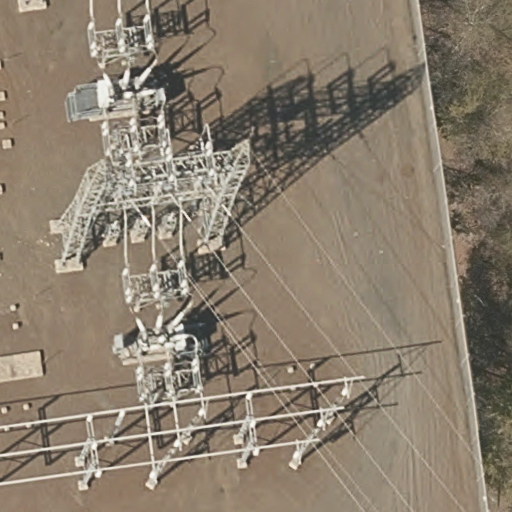TT: (54, 5, 353, 489)
